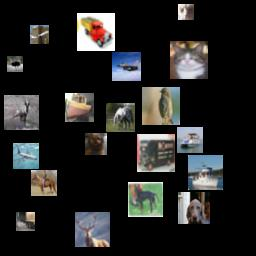airplane: (112, 52, 141, 81), (13, 143, 39, 169), (30, 25, 49, 44)
bird: (142, 87, 180, 125), (7, 56, 23, 72)
cat: (170, 41, 208, 79), (178, 4, 194, 20)
deer: (4, 95, 39, 130), (75, 212, 110, 247)
dog: (128, 182, 163, 217), (178, 192, 210, 224), (85, 133, 107, 155)
ship: (188, 155, 223, 190), (65, 93, 94, 122), (177, 127, 203, 153)
truck: (77, 13, 115, 51), (137, 134, 175, 172), (16, 212, 35, 231)
